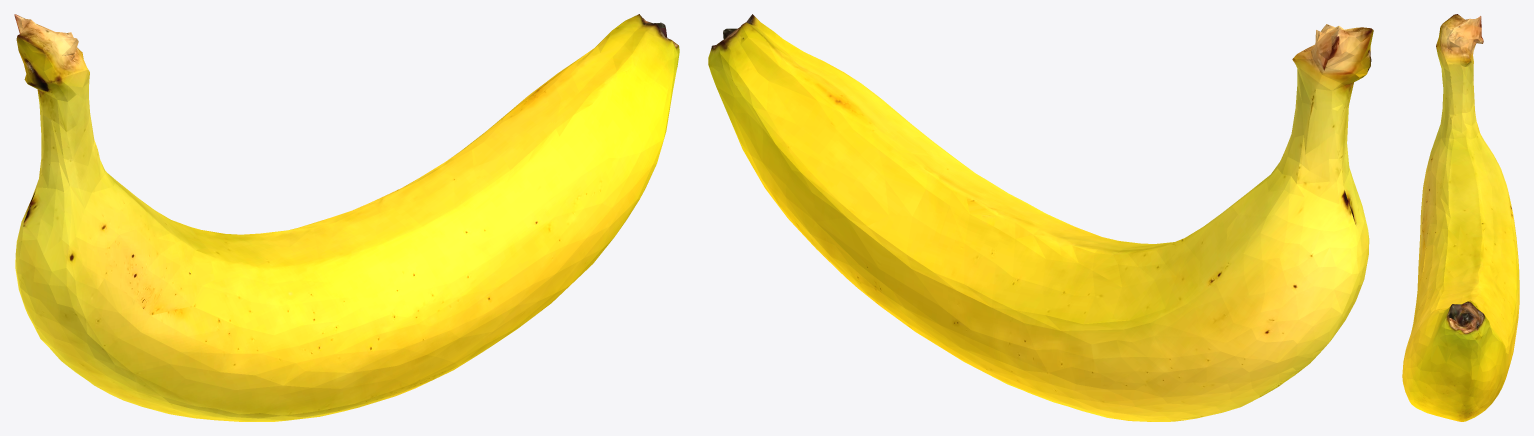
File: bananaoptimized-transformed.glb
The picture shows the model from 3 angles, left to right: view 1: azimuth 30°, elevation 25°; view 2: azimuth 150°, elevation 25°; view 3: azimuth 270°, elevation 25°; orthographic projection. The views are drawn at different scales.
Parts seen in each view (by area): view 1: banana; view 2: banana; view 3: banana.
Boxes of the visible parts, x1,y1,x2,y2 form: banana: [14, 14, 679, 421]; banana: [708, 14, 1373, 421]; banana: [1402, 14, 1519, 421].
Bounding box in the file's own units: 6.79 × 4.43 × 1.61.
Materials: 1 (1 with a texture image).
